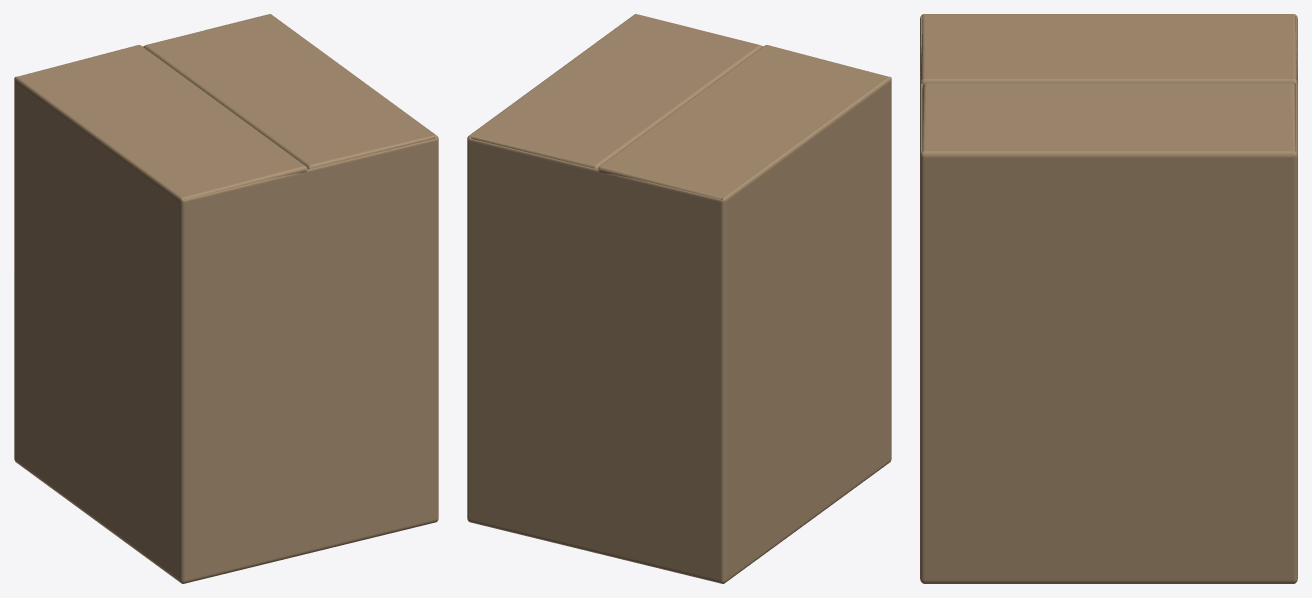
Rendered from LargeBox.glb.
3 renders of one model, left to right at view 1: azimuth 30°, elevation 25°; view 2: azimuth 150°, elevation 25°; view 3: azimuth 270°, elevation 25°, orthographic. The views are drawn at different scales.
Parts seen in each view (by area): view 1: Cube; view 2: Cube; view 3: Cube.
Boxes of the visible parts, left/top/right/bottom form: Cube: left=14, top=14, right=438, bottom=583; Cube: left=467, top=14, right=891, bottom=583; Cube: left=920, top=14, right=1297, bottom=583.
Bounding box in the file's own units: 0.381 × 0.5471 × 0.4318.
